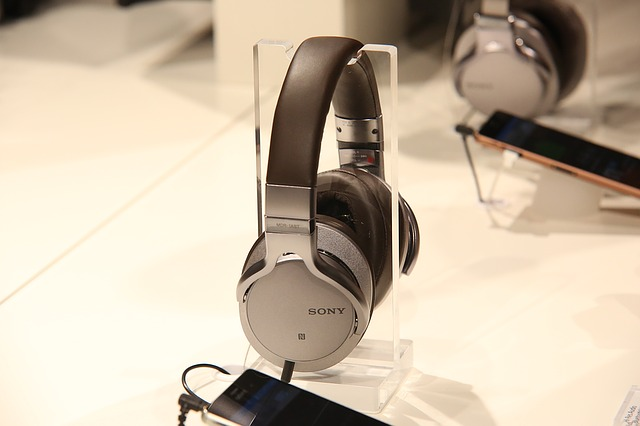headphones: (237, 36, 421, 373), (451, 1, 589, 119)
